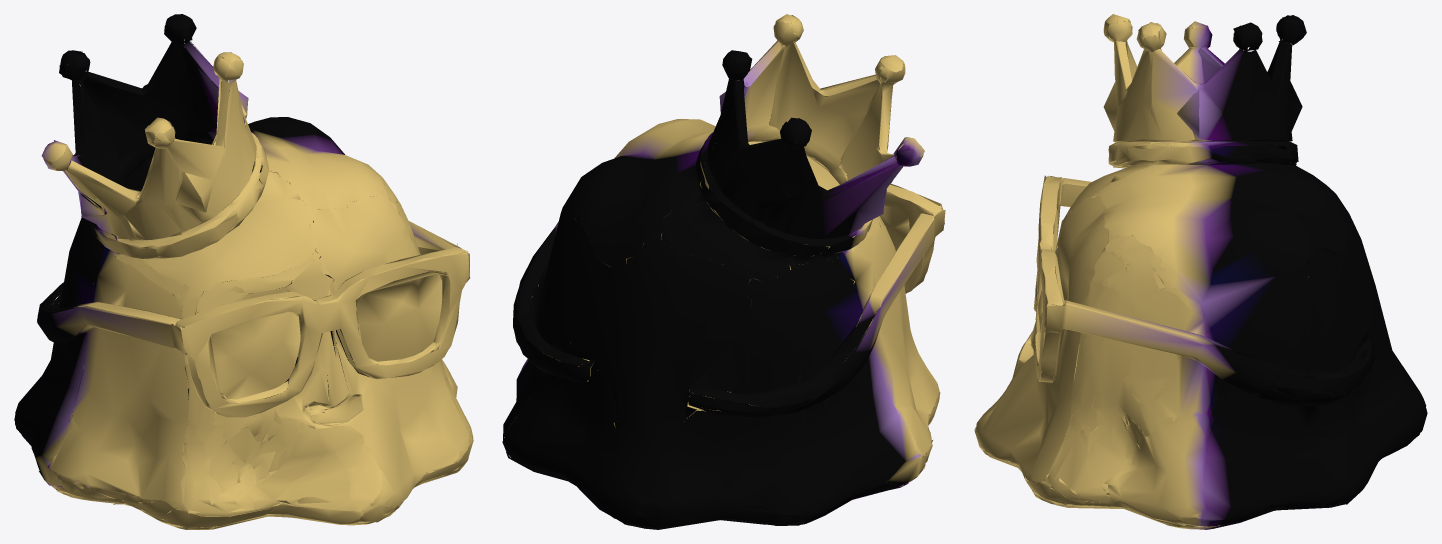
File: king_gloop.glb
3 views of the same model, side by side, from view 1: azimuth 30°, elevation 25°; view 2: azimuth 150°, elevation 25°; view 3: azimuth 270°, elevation 25° (orthographic). The views are drawn at different scales.
Parts seen in each view (by area): view 1: king_gloop.001; view 2: king_gloop.001; view 3: king_gloop.001.
Part boxes in pixels (left/top/right/bottom): king_gloop.001: left=14, top=14, right=473, bottom=529; king_gloop.001: left=502, top=14, right=945, bottom=529; king_gloop.001: left=974, top=14, right=1427, bottom=529.
Size of the model in its own units: 2.34 by 2.36 by 2.41.
